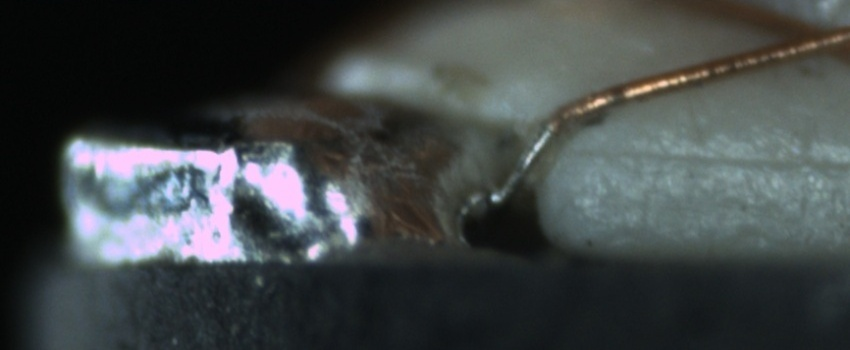CL: (756, 3, 845, 65)
DL: (568, 122, 845, 191)
TS: (485, 118, 566, 214)
